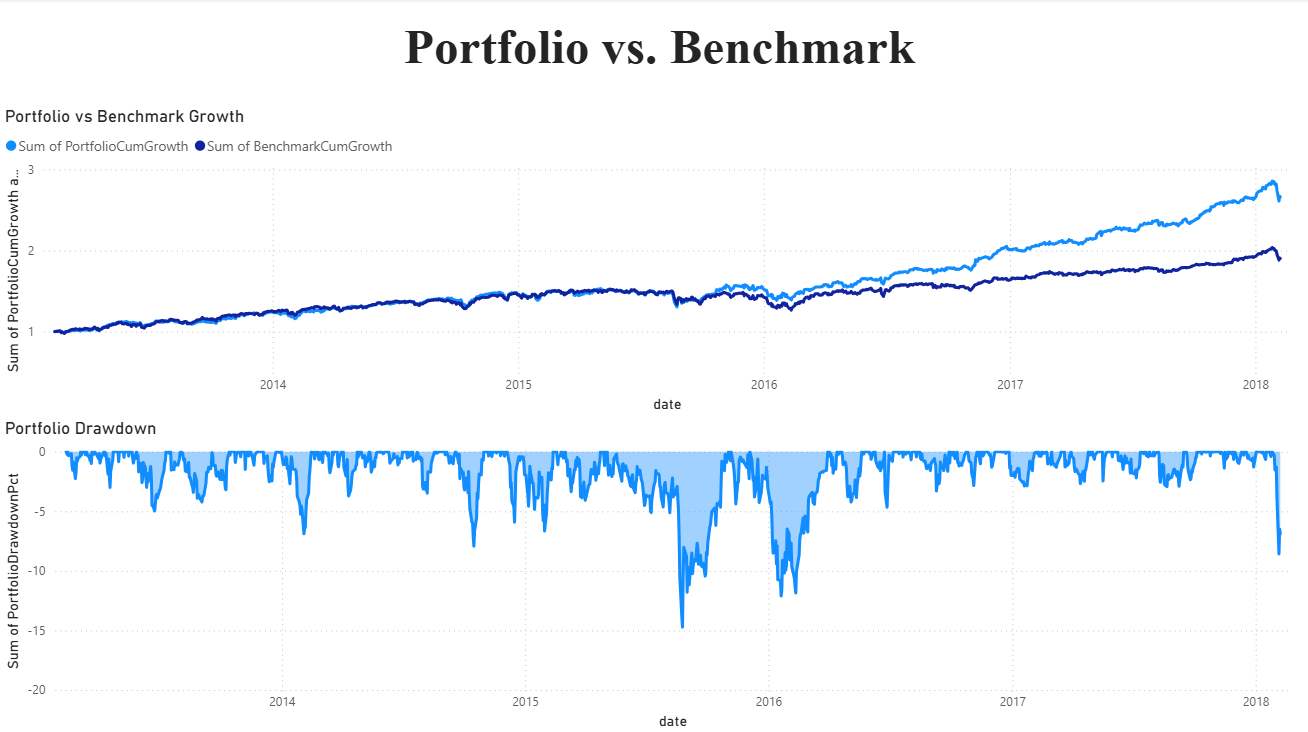

The page's visual inventory and layout, read from the dashboard file:
{"tool":"powerbi","page":{"name":"Page 2","canvas":[1280,720],"ordinal":1},"visuals":[{"type":"textbox","box":[9.6,16.5,1270.7,74.1],"z":0},{"type":"lineChart","title":"Portfolio vs Benchmark Growth","fields":{"Y":["Sum(portfolio_summary.PortfolioCumGrowth)","Sum(portfolio_summary.BenchmarkCumGrowth)"],"Category":["portfolio_summary.date"]},"box":[0,105.7,1270.7,304.6],"z":1},{"type":"areaChart","title":"Portfolio Drawdown","fields":{"Y":["Sum(portfolio_summary.PortfolioDrawdownPct)"],"Category":["portfolio_summary.date"]},"box":[0,410.3,1270.7,310.1],"z":2}]}

Visuals, with their boxes in screenshot pixels (x1, y1, x2, y2), scaled from the page's 1280x720 canvas onto the 1308x732 screenshot:
textbox: x1=10 y1=17 x2=1307 y2=92
"Portfolio vs Benchmark Growth" lineChart: x1=0 y1=107 x2=1298 y2=417
"Portfolio Drawdown" areaChart: x1=0 y1=417 x2=1298 y2=731
